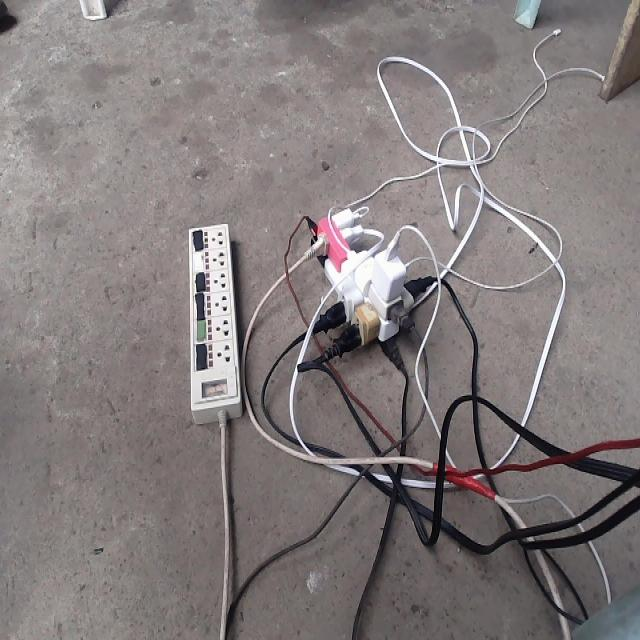-: (300, 207, 436, 372)
